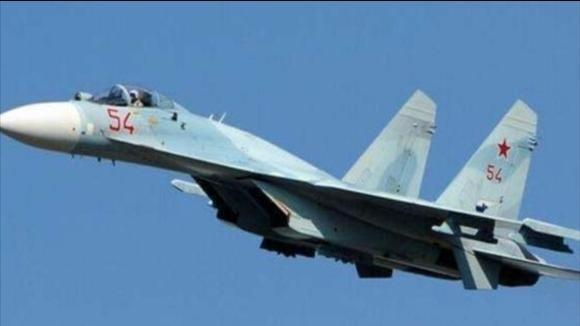airplane: (1, 74, 580, 293)
